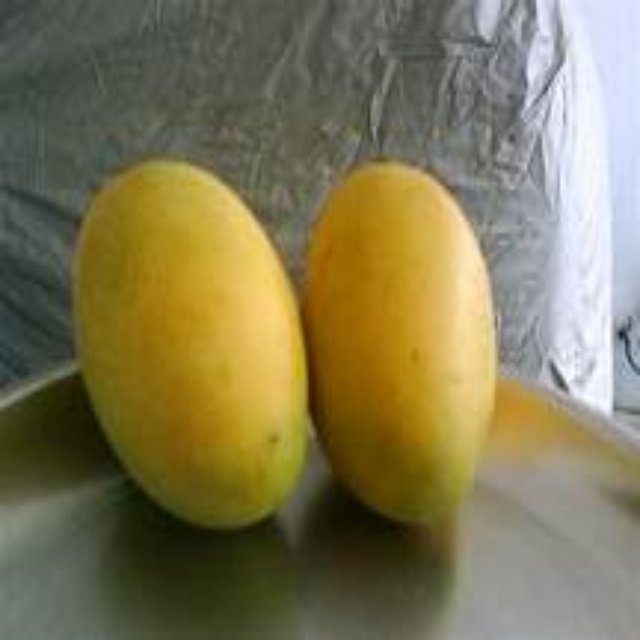mango: (72, 155, 315, 534), (303, 164, 487, 524)
